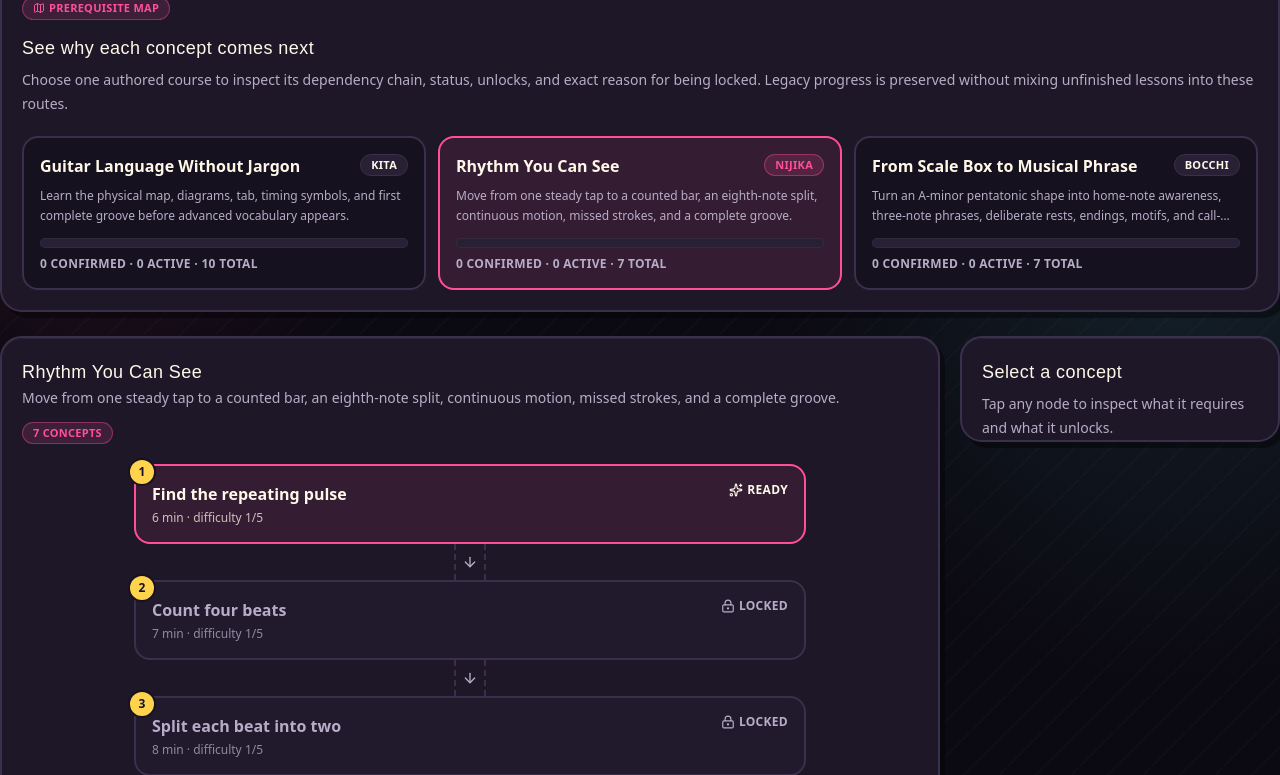
Test: GuitarLearningMap › explains locked nodes and supports an already-known override
The image size is (1280, 775).
Step 1. Click the button with aria-label "Count four beats, Locked" → point(219, 610), box [134,580,806,660]
(page scrolled)
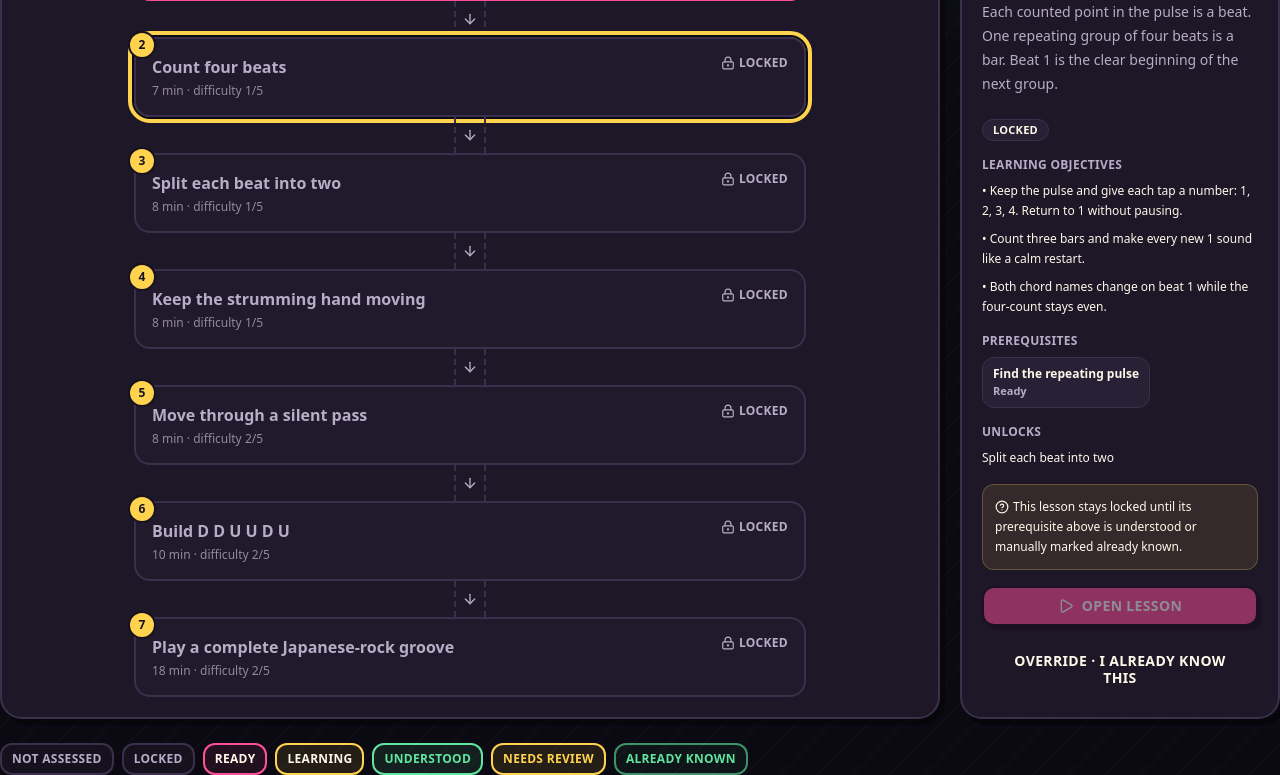
Now the text "stays locked until its prerequisite" is shown, box [995,498,1197,555]
Step 2. Click the button "Override · I already know this" → point(1120, 670), box [982,642,1258,697]
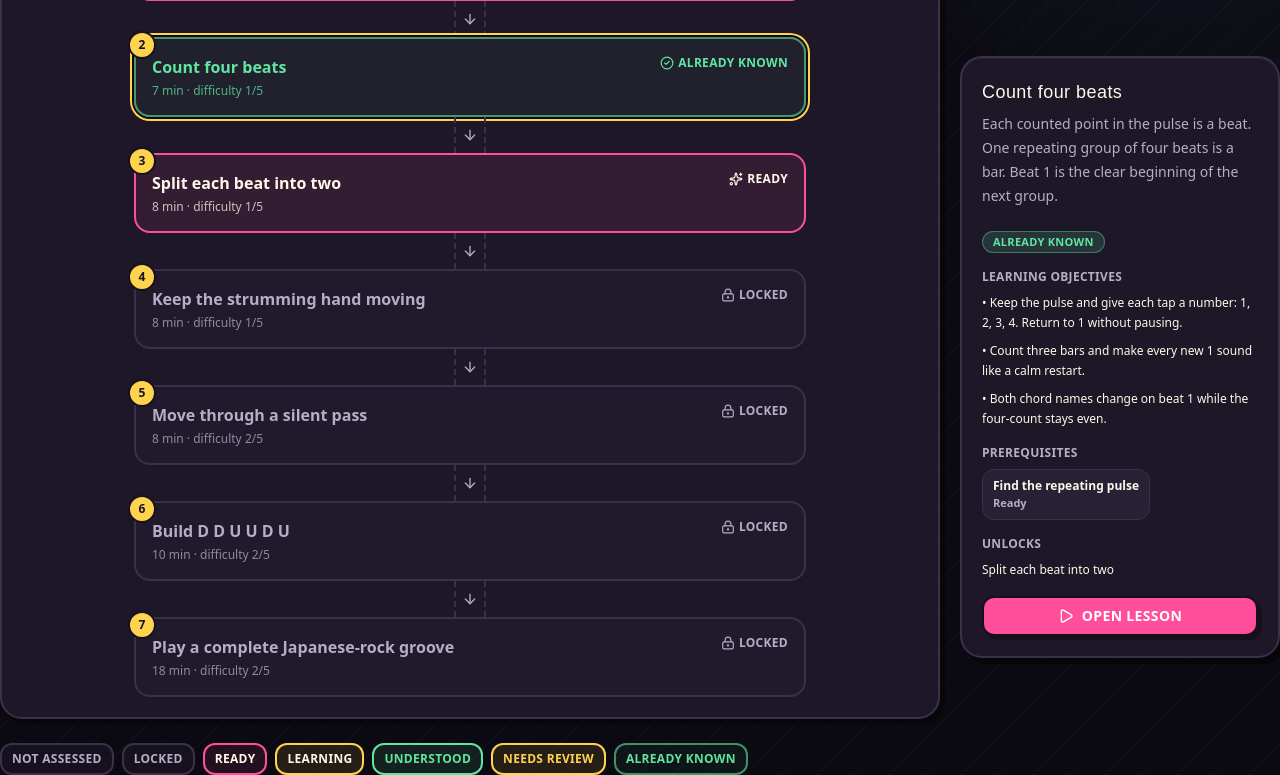
Now the button with aria-label "Count four beats, Already known" is shown, box [134,37,806,117]
